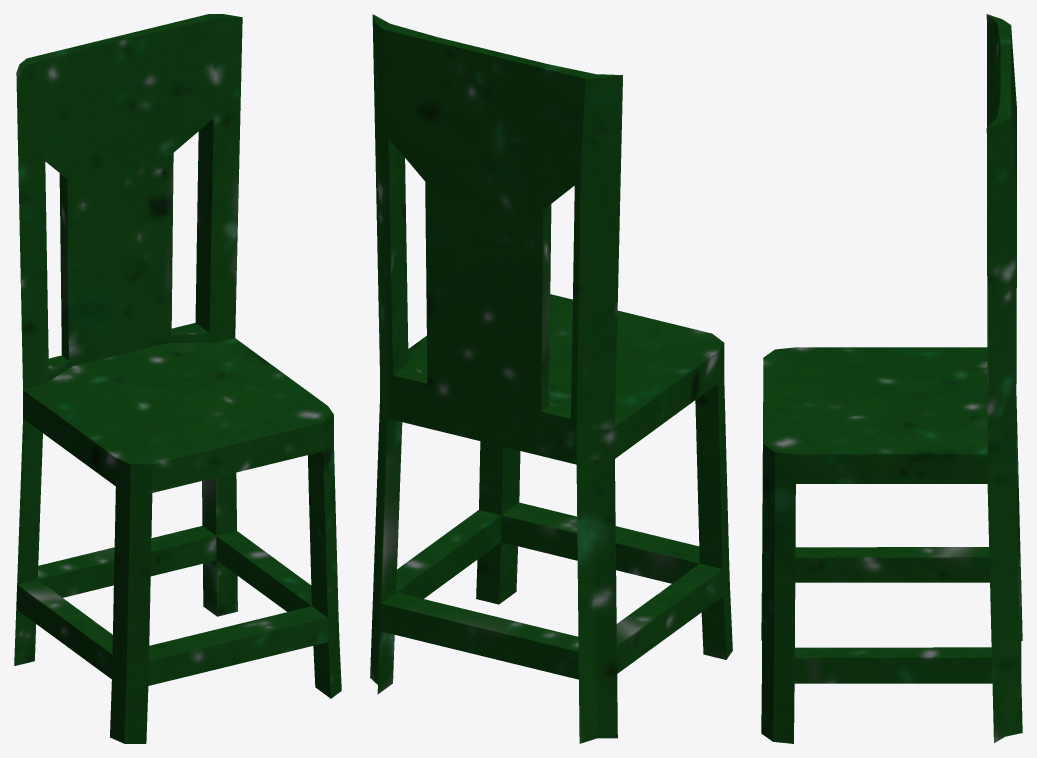
The model's file is Plastic_Chair_2.fbx.
3 renders of one model, left to right at view 1: azimuth 30°, elevation 25°; view 2: azimuth 150°, elevation 25°; view 3: azimuth 270°, elevation 25°, orthographic. The views are drawn at different scales.
Parts seen in each view (by area): view 1: Plastic Chair_2; view 2: Plastic Chair_2; view 3: Plastic Chair_2.
Boxes of the visible parts, <box> form: Plastic Chair_2: <box>14,14,341,743</box>; Plastic Chair_2: <box>370,14,732,743</box>; Plastic Chair_2: <box>761,14,1022,743</box>.
Size of the model in its own units: 56.15 by 142 by 54.42.
